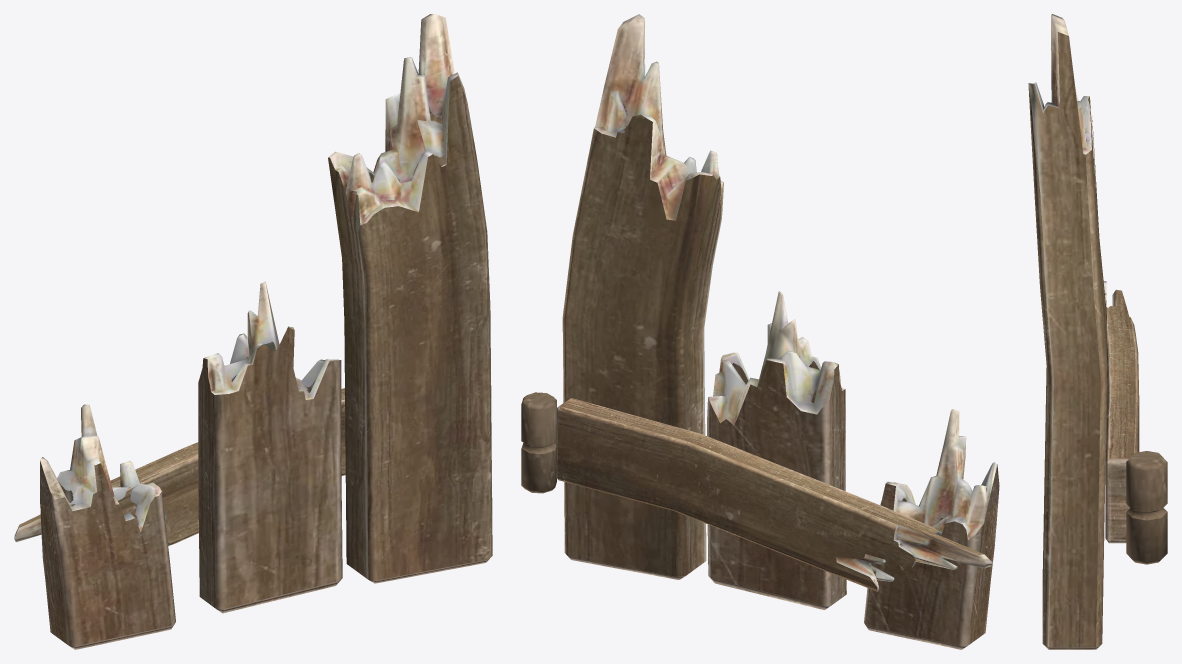
3 views of the same model, side by side, from view 1: azimuth 30°, elevation 25°; view 2: azimuth 150°, elevation 25°; view 3: azimuth 270°, elevation 25° (orthographic). The views are drawn at different scales.
Parts seen in each view (by area): view 1: SM_Human_Ruins_Shutter_Dmg_03_LOD0; view 2: SM_Human_Ruins_Shutter_Dmg_03_LOD0; view 3: SM_Human_Ruins_Shutter_Dmg_03_LOD0.
Boxes of the visible parts, bbox=[...] form: SM_Human_Ruins_Shutter_Dmg_03_LOD0: bbox=[14, 14, 492, 649]; SM_Human_Ruins_Shutter_Dmg_03_LOD0: bbox=[521, 14, 999, 649]; SM_Human_Ruins_Shutter_Dmg_03_LOD0: bbox=[1028, 14, 1167, 649].
Size of the model in its own units: 0.9021 by 1.03 by 0.2134.
Materials: 1 (1 with a texture image).
